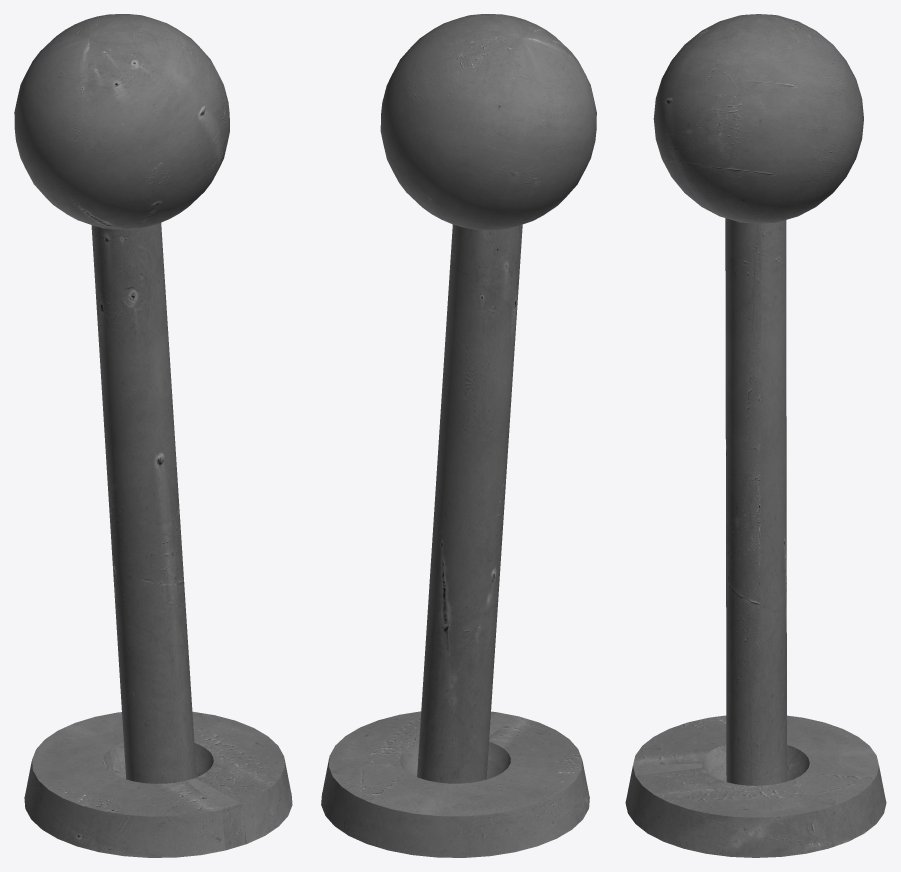
File: рычаг (2).fbx
The picture shows the model from 3 angles, left to right: view 1: azimuth 30°, elevation 25°; view 2: azimuth 150°, elevation 25°; view 3: azimuth 270°, elevation 25°; orthographic projection. The views are drawn at different scales.
Visible parts, largest first — view 1: Sphere, Sphere.001, Circle; view 2: Sphere, Sphere.001, Circle; view 3: Sphere.001, Sphere, Circle.
Boxes of the visible parts, <box> form: Sphere: <box>91,223,196,783</box>; Sphere.001: <box>14,14,229,229</box>; Circle: <box>24,711,292,857</box>; Sphere: <box>417,224,522,783</box>; Sphere.001: <box>380,14,596,229</box>; Circle: <box>321,711,589,857</box>; Sphere.001: <box>653,14,863,223</box>; Sphere: <box>725,218,786,785</box>; Circle: <box>625,715,886,857</box>.
Bounding box in the file's own units: 14.8 × 46.42 × 14.07.
